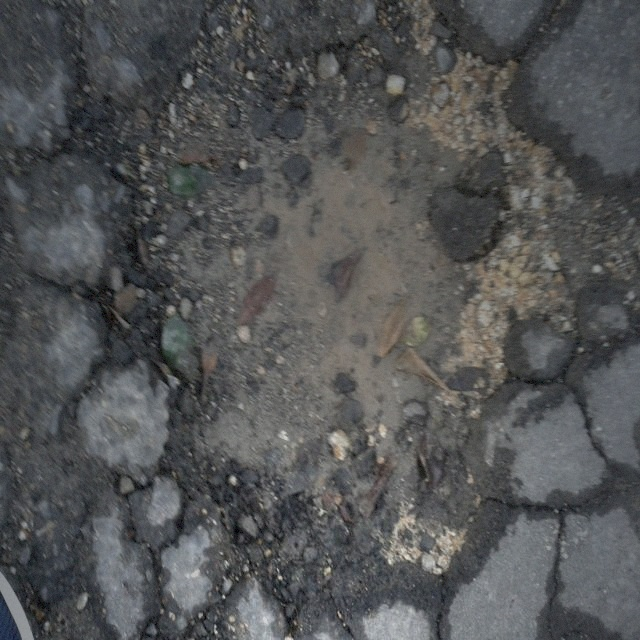pothole: (108, 32, 577, 547)
